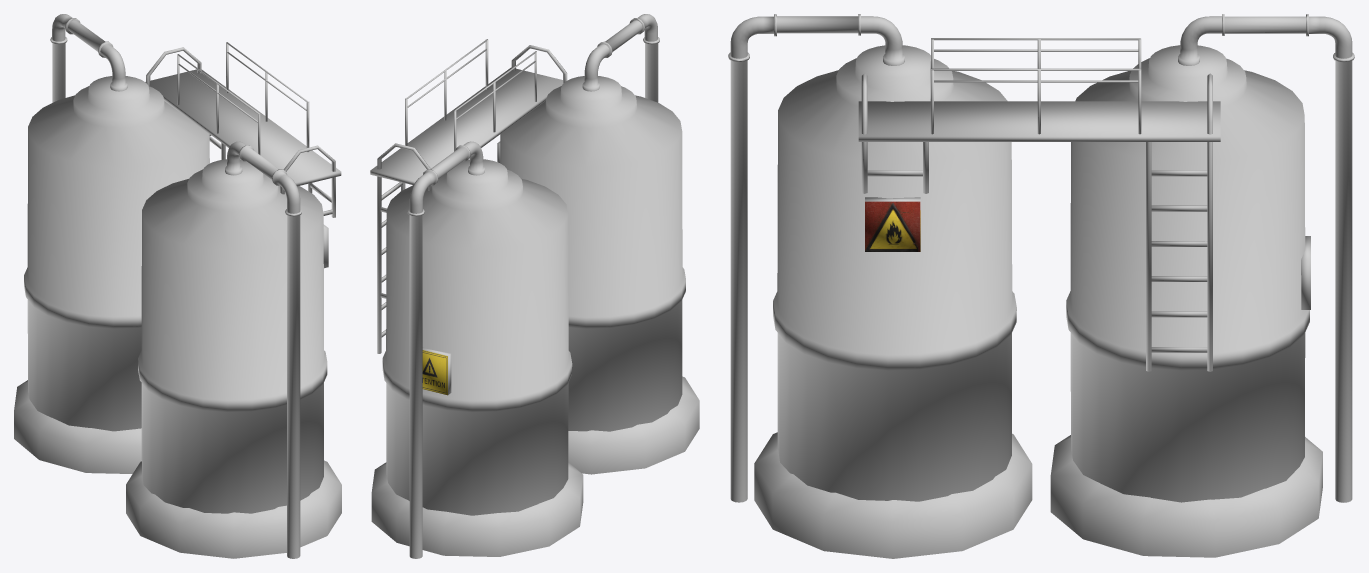
File: OilTank.fbx
3 renders of one model, left to right at view 1: azimuth 30°, elevation 25°; view 2: azimuth 150°, elevation 25°; view 3: azimuth 270°, elevation 25°, orthographic. The views are drawn at different scales.
Visible parts, largest first — view 1: OilTanks; view 2: OilTanks; view 3: OilTanks.
Boxes of the visible parts, bbox=[...] form: OilTanks: bbox=[14, 14, 341, 558]; OilTanks: bbox=[370, 14, 699, 558]; OilTanks: bbox=[728, 14, 1354, 558].
Size of the model in its own units: 4.87 by 9.48 by 10.96.
